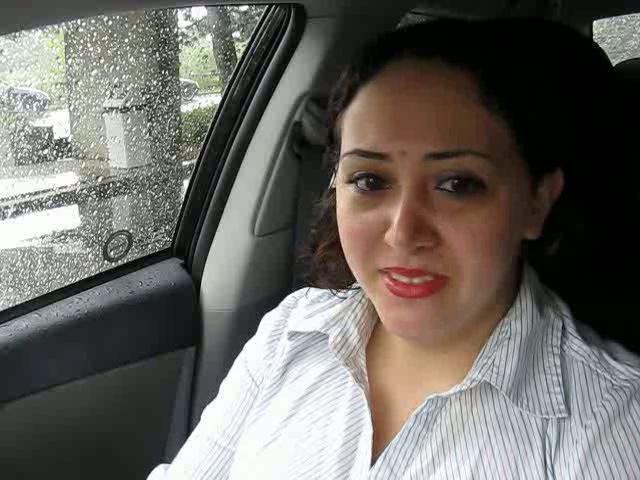no_yawn: (360, 252, 463, 313)
open_eyeL: (336, 160, 404, 208)
open_eyeR: (418, 162, 505, 211)
